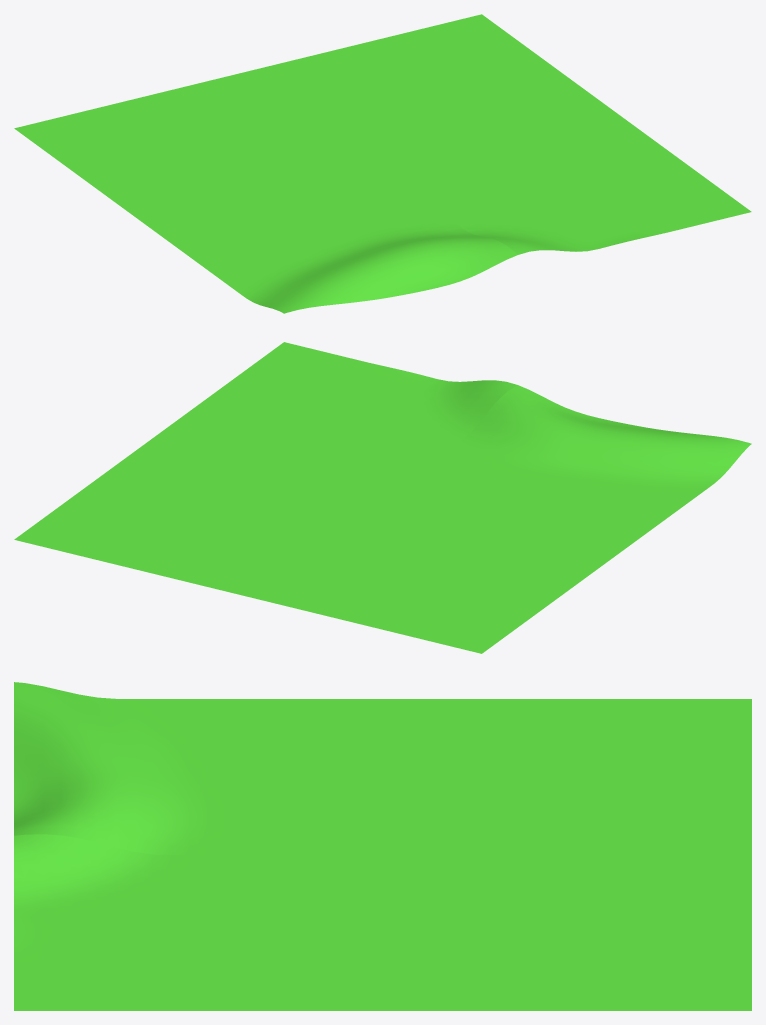
Rendered from tile_200_100.glb.
The picture shows the model from 3 angles, top to bottom: view 1: azimuth 30°, elevation 25°; view 2: azimuth 150°, elevation 25°; view 3: azimuth 270°, elevation 25°; orthographic projection. The views are drawn at different scales.
Parts seen in each view (by area): view 1: tile_200_100; view 2: tile_200_100; view 3: tile_200_100.
Part boxes in pixels (x1=…): tile_200_100: x1=14, y1=14, x2=751, y2=313; tile_200_100: x1=14, y1=342, x2=751, y2=653; tile_200_100: x1=14, y1=682, x2=751, y2=1010.
Bounding box in the file's own units: 100 × 3.13 × 100.
